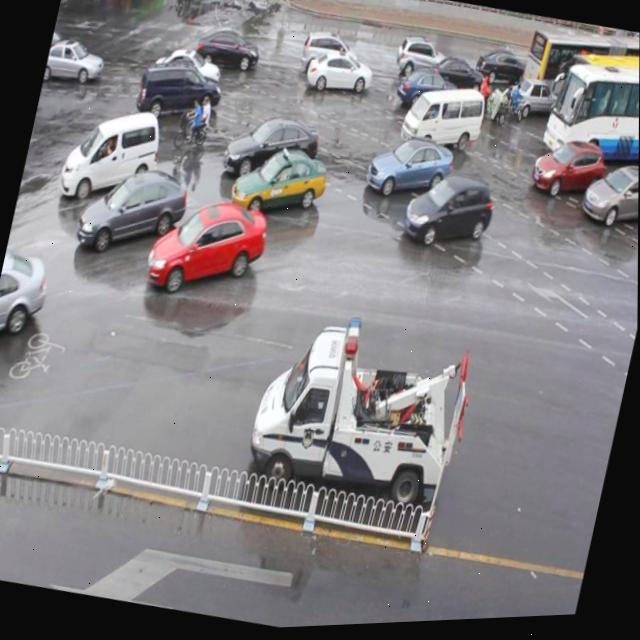bus: (241, 299, 483, 529)
car: (144, 186, 274, 307), (76, 159, 193, 266), (59, 103, 165, 210), (230, 144, 331, 228), (401, 170, 496, 256), (223, 111, 322, 193), (363, 130, 455, 208), (134, 56, 224, 132), (0, 245, 55, 365), (529, 137, 607, 208), (579, 163, 639, 238), (149, 42, 224, 99), (304, 46, 375, 105), (193, 24, 262, 78), (394, 65, 459, 121), (43, 38, 108, 93), (427, 52, 489, 104), (299, 28, 361, 80), (393, 34, 452, 88), (472, 47, 534, 95), (507, 78, 559, 127)
truck: (398, 80, 487, 163)
van: (520, 19, 640, 126), (540, 56, 640, 178), (556, 43, 640, 156)
